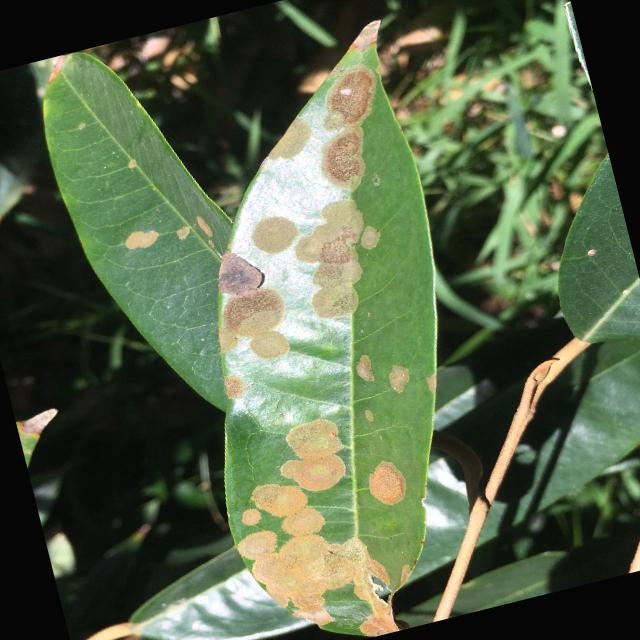Algal Leaf Spot: (107, 8, 533, 639)
